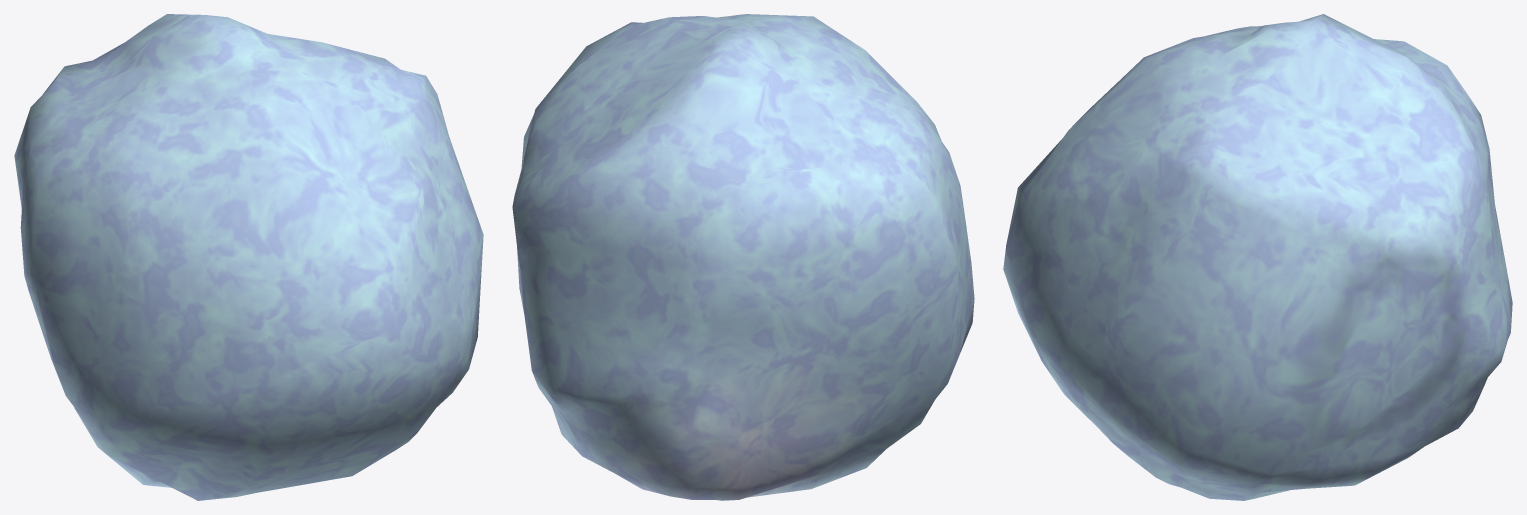
The model's file is Plasma.fbx.
The picture shows the model from 3 angles, left to right: view 1: azimuth 30°, elevation 25°; view 2: azimuth 150°, elevation 25°; view 3: azimuth 270°, elevation 25°; orthographic projection. The views are drawn at different scales.
Visible parts, largest first — view 1: Plasma_Group63869; view 2: Plasma_Group63869; view 3: Plasma_Group63869.
Boxes of the visible parts, bbox=[...] form: Plasma_Group63869: bbox=[14, 14, 483, 500]; Plasma_Group63869: bbox=[512, 14, 974, 500]; Plasma_Group63869: bbox=[1003, 14, 1512, 500].
Size of the model in its own units: 2.29 by 2.2 by 2.34.
1 material, 1 textured.
